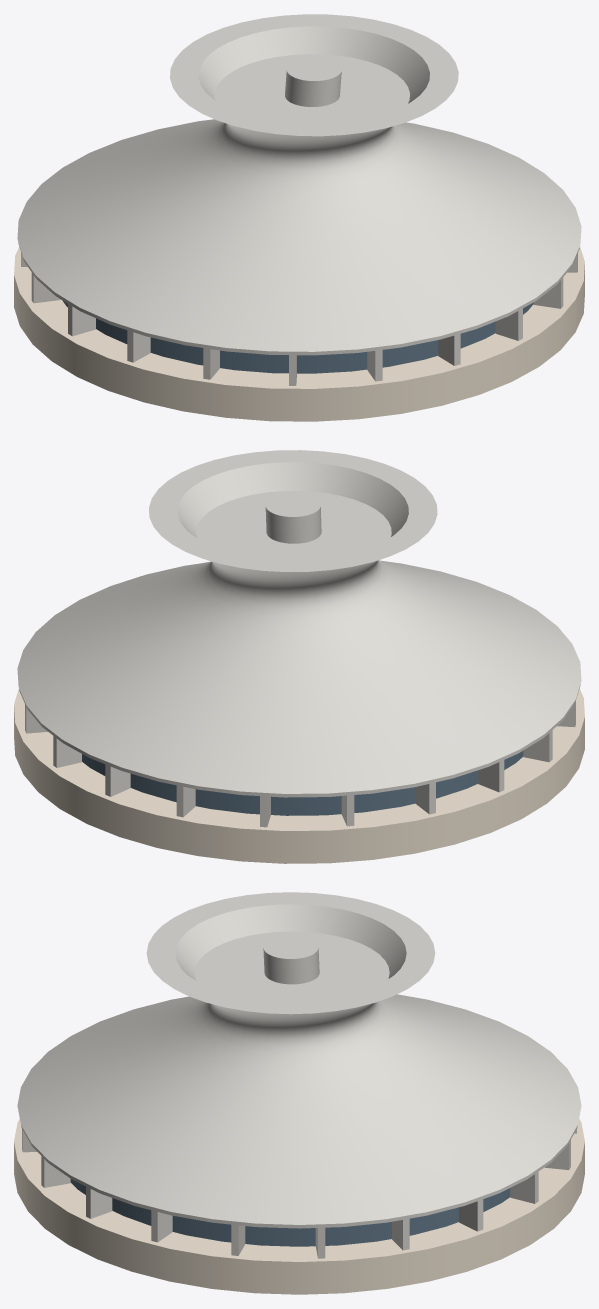
File: stl-planetarium.glb
3 renders of one model, top to bottom at view 1: azimuth 30°, elevation 25°; view 2: azimuth 150°, elevation 25°; view 3: azimuth 270°, elevation 25°, orthographic.
Parts seen in each view (by area): view 1: James S. McDonnell Planetarium; view 2: James S. McDonnell Planetarium; view 3: James S. McDonnell Planetarium.
Boxes of the visible parts, x1,y1,x2,y2 form: James S. McDonnell Planetarium: [14, 14, 584, 421]; James S. McDonnell Planetarium: [14, 450, 584, 863]; James S. McDonnell Planetarium: [14, 892, 584, 1294].
Bounding box in the file's own units: 53.8 × 24.1 × 53.8.
